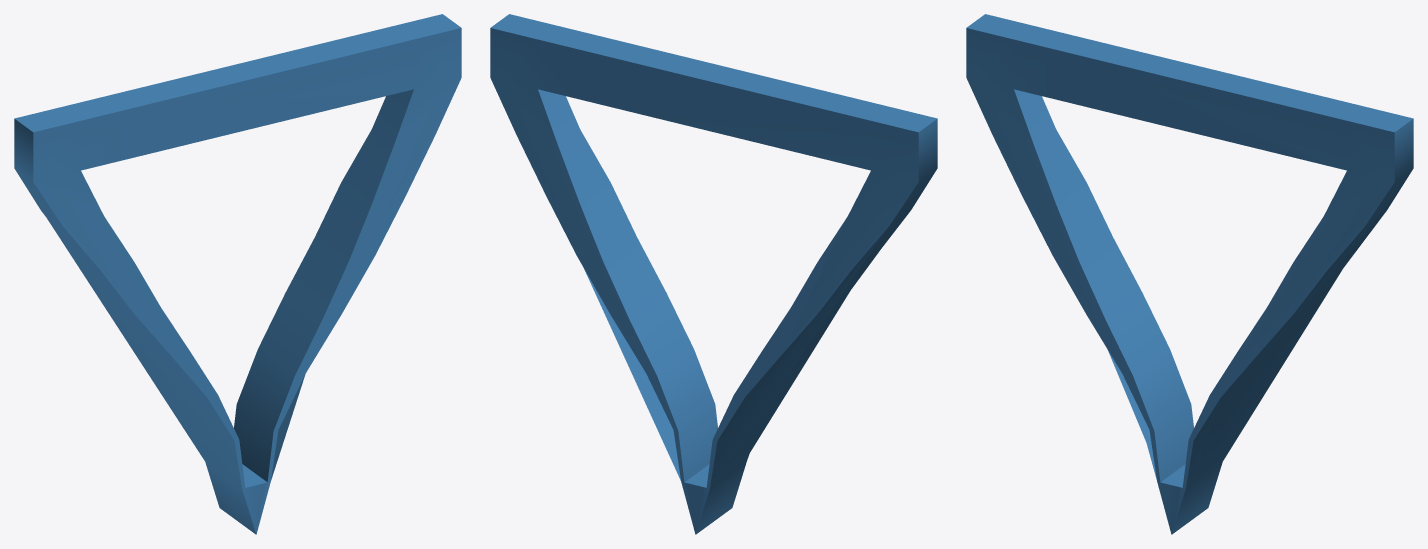
Rendered from triangleFinished.fbx.
3 renders of one model, left to right at view 1: azimuth 30°, elevation 25°; view 2: azimuth 150°, elevation 25°; view 3: azimuth 330°, elevation 25°, orthographic.
Visible parts, largest first — view 1: pCube1; view 2: pCube1; view 3: pCube1.
Part boxes in pixels (x1,y1,x2,y2): pCube1: (14, 14, 461, 534); pCube1: (490, 14, 937, 534); pCube1: (966, 14, 1413, 534).
Size of the model in its own units: 1 by 1 by 0.1492.
